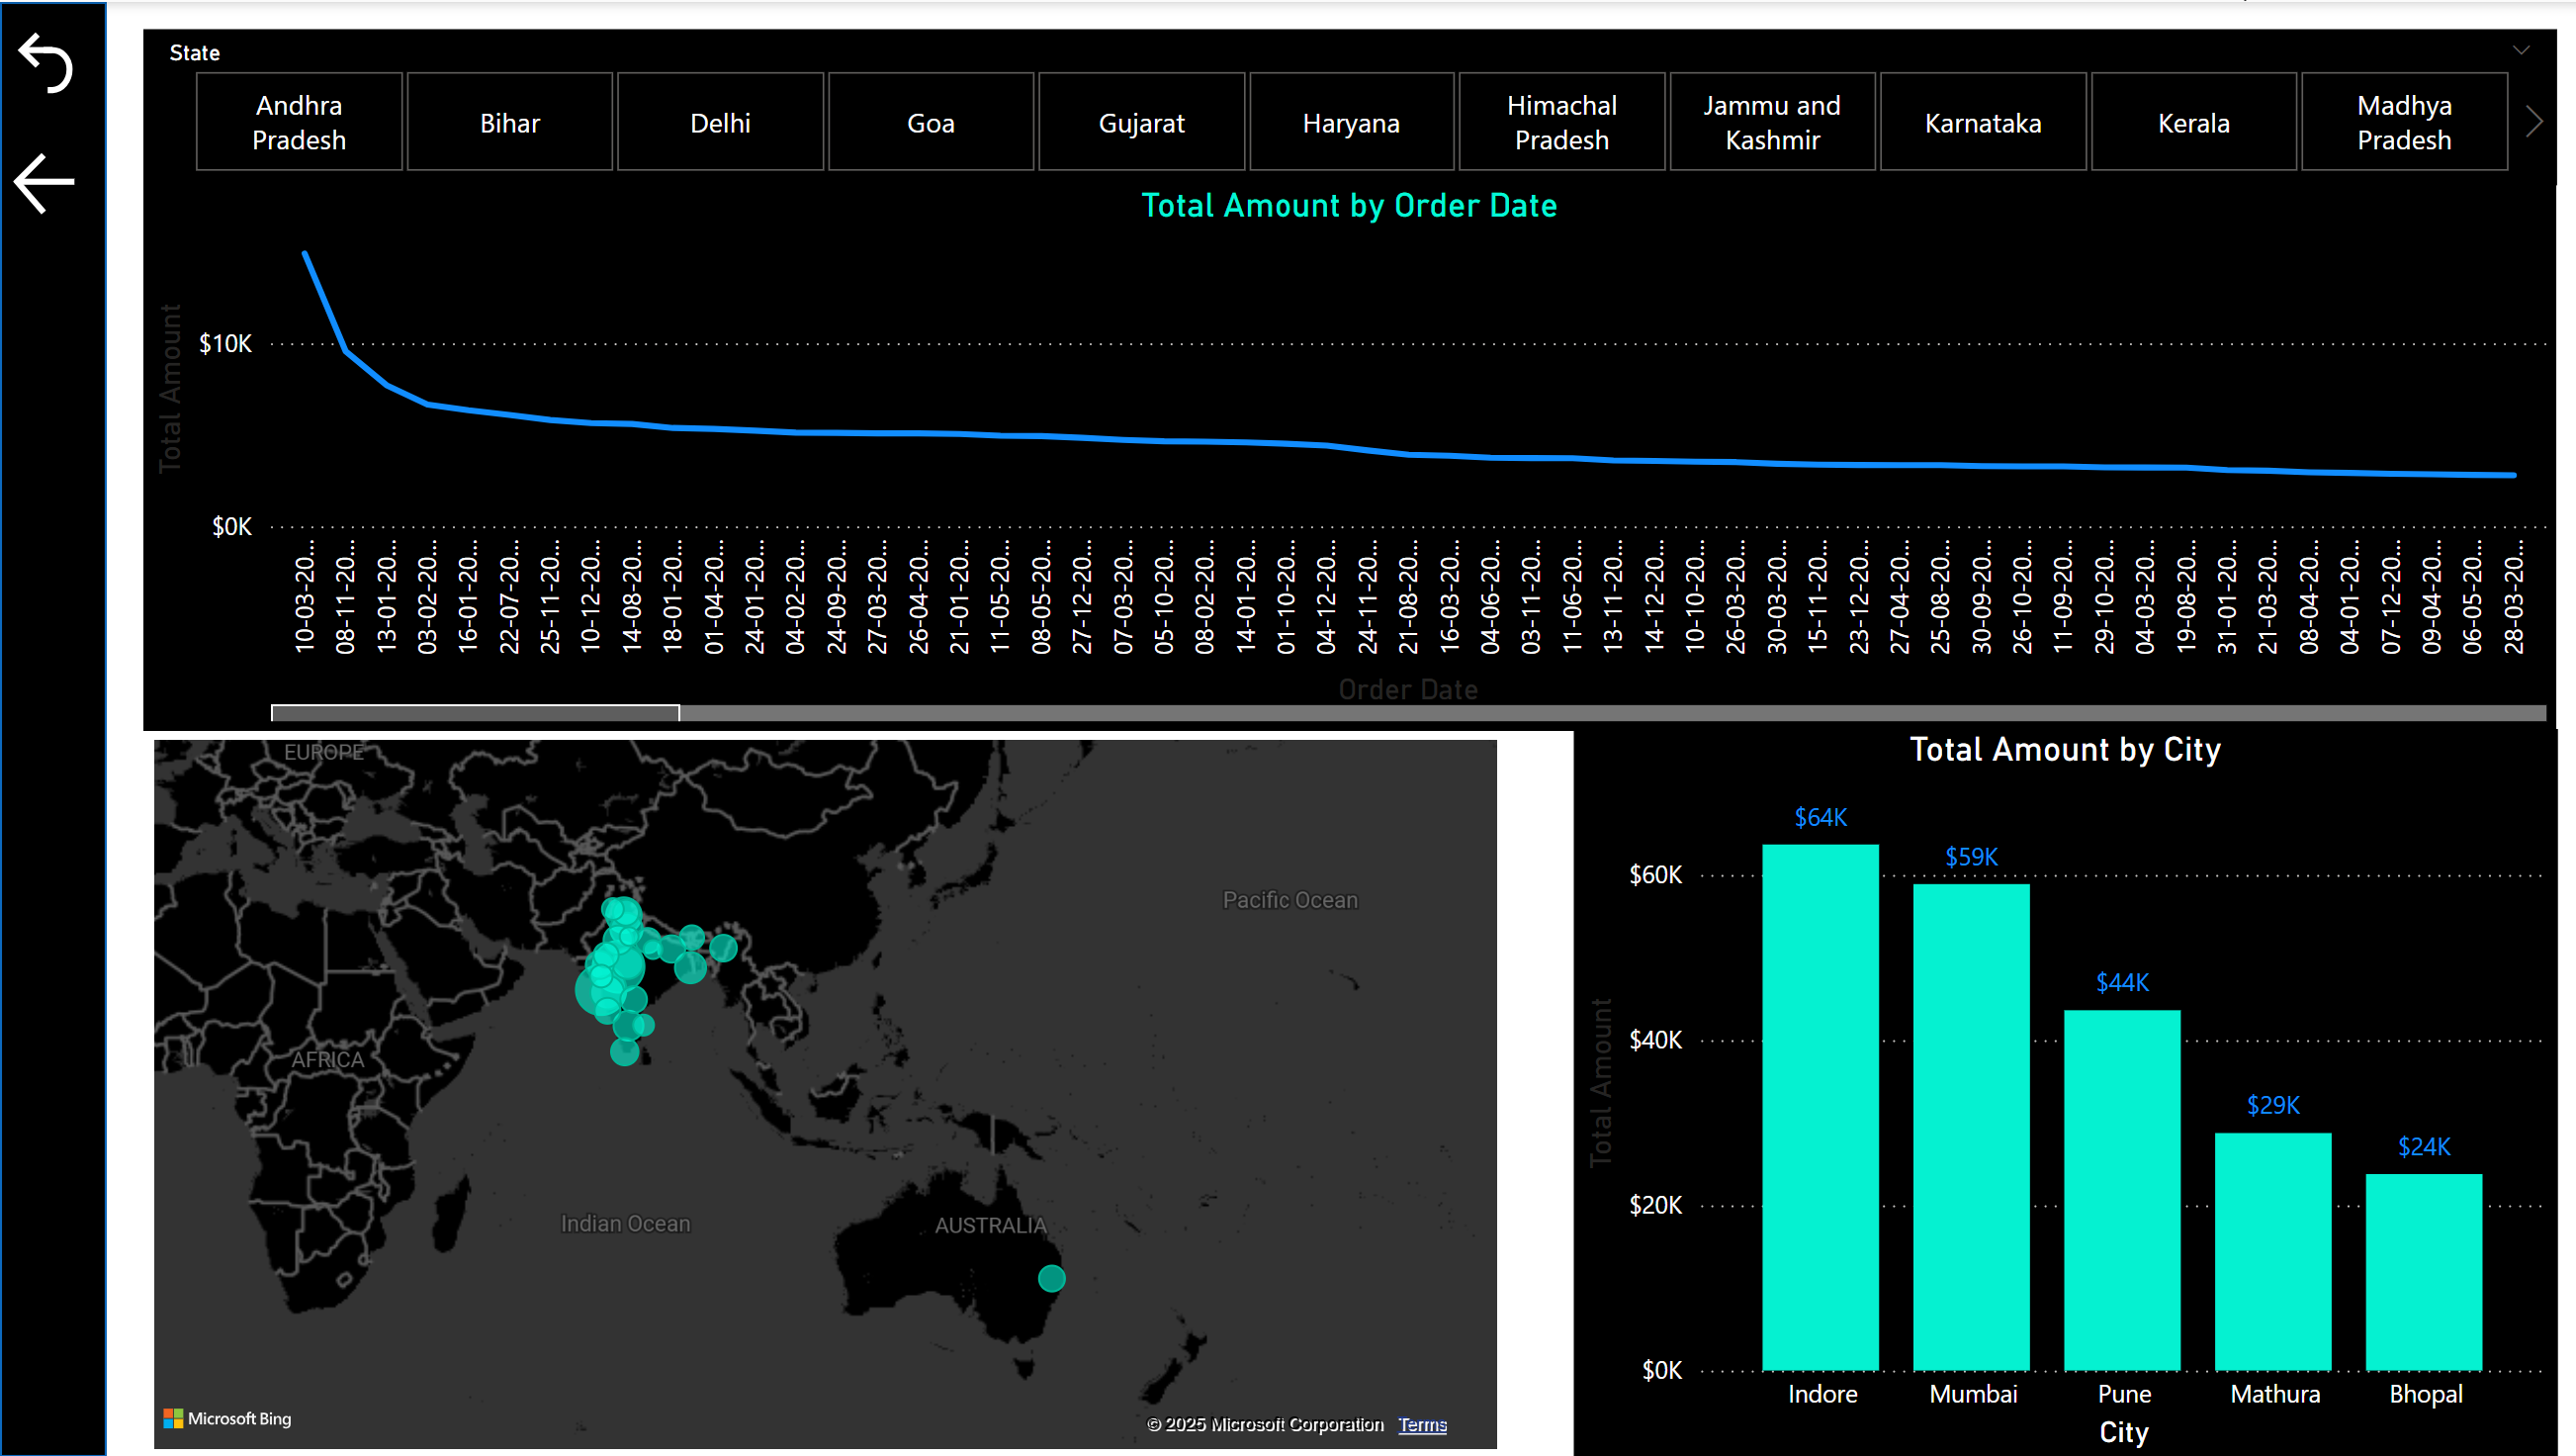

The dashboard page shown, as its layout file describes it:
{"tool":"powerbi","page":{"name":"Sales Performance","canvas":[1280,720],"ordinal":1},"visuals":[{"type":"map","fields":{"Category":["Orders.City"],"Size":["New Measures.Total Orders"]},"box":[70.9,359.5,675,360.7],"z":0},{"type":"shape","box":[0,0,52.9,720],"z":1000},{"type":"slicer","fields":{"Values":["Orders.State"]},"box":[71.4,12.9,1194.3,77.1],"z":2000},{"type":"clusteredColumnChart","fields":{"Category":["Orders.City"],"Y":["New Measures.Total Amount"]},"box":[778.9,359.5,486.7,360.7],"z":3000},{"type":"lineChart","fields":{"Y":["New Measures.Total Amount"],"Category":["Orders.Order Date"]},"box":[71,90,1194,270],"z":4000},{"type":"actionButton","box":[2.9,69.3,51.9,40.4],"z":5000},{"type":"actionButton","box":[2.4,9.8,50.1,40.4],"z":6000}]}

Visuals, with their boxes on the page's 1280x720 design canvas (x1, y1, x2, y2). These are canvas units, not pixel positions in the 2576x1456 screenshot, which may show the page scaled, cropped or inside an application window:
map - Orders.City x New Measures.Total Orders: 71:360:746:720
shape: 0:0:53:720
slicer - Orders.State: 71:13:1266:90
clusteredColumnChart - Orders.City x New Measures.Total Amount: 779:360:1266:720
lineChart - New Measures.Total Amount x Orders.Order Date: 71:90:1265:360
actionButton: 3:69:55:110
actionButton: 2:10:52:50
